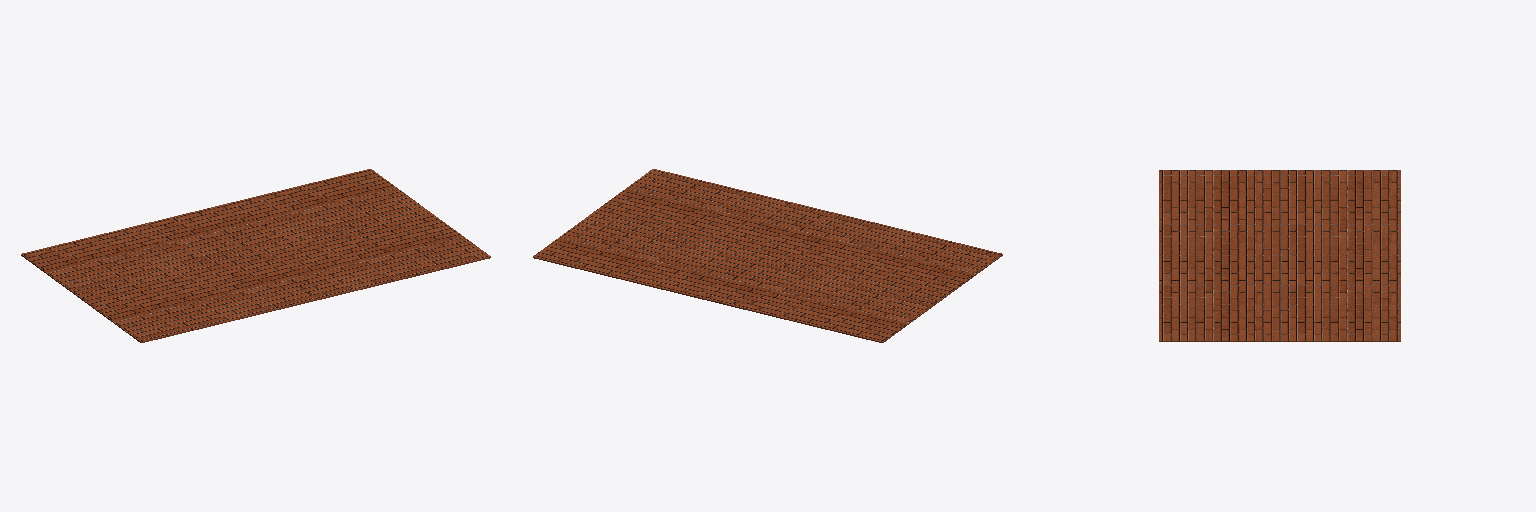
3 views of the same model, side by side, from view 1: azimuth 30°, elevation 25°; view 2: azimuth 150°, elevation 25°; view 3: azimuth 270°, elevation 25° (orthographic).
Parts seen in each view (by area): view 1: Box001; view 2: Box001; view 3: Box001.
Boxes of the visible parts, x1=… form: Box001: x1=21, y1=169, x2=490, y2=342; Box001: x1=533, y1=169, x2=1002, y2=342; Box001: x1=1159, y1=170, x2=1400, y2=341.
Size of the model in its own units: 3100 by 10 by 1850.
Materials: 1 (1 with a texture image).